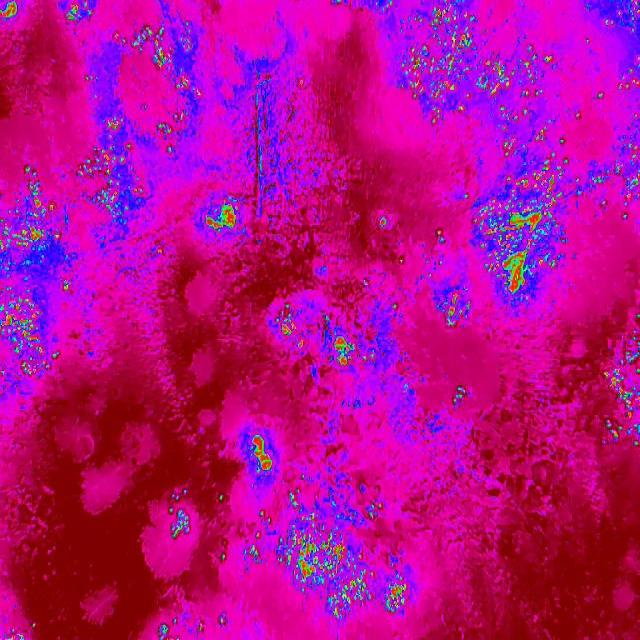fire: (157, 490, 419, 640), (396, 2, 556, 156), (0, 168, 67, 384), (472, 157, 565, 298), (559, 70, 640, 218), (74, 116, 136, 219), (154, 66, 208, 162), (375, 216, 448, 276), (604, 336, 640, 442), (128, 19, 174, 79), (433, 284, 470, 334), (246, 434, 276, 480), (270, 300, 300, 342), (203, 204, 237, 236), (327, 332, 357, 366), (58, 1, 98, 26), (0, 616, 36, 639), (0, 0, 21, 21)
